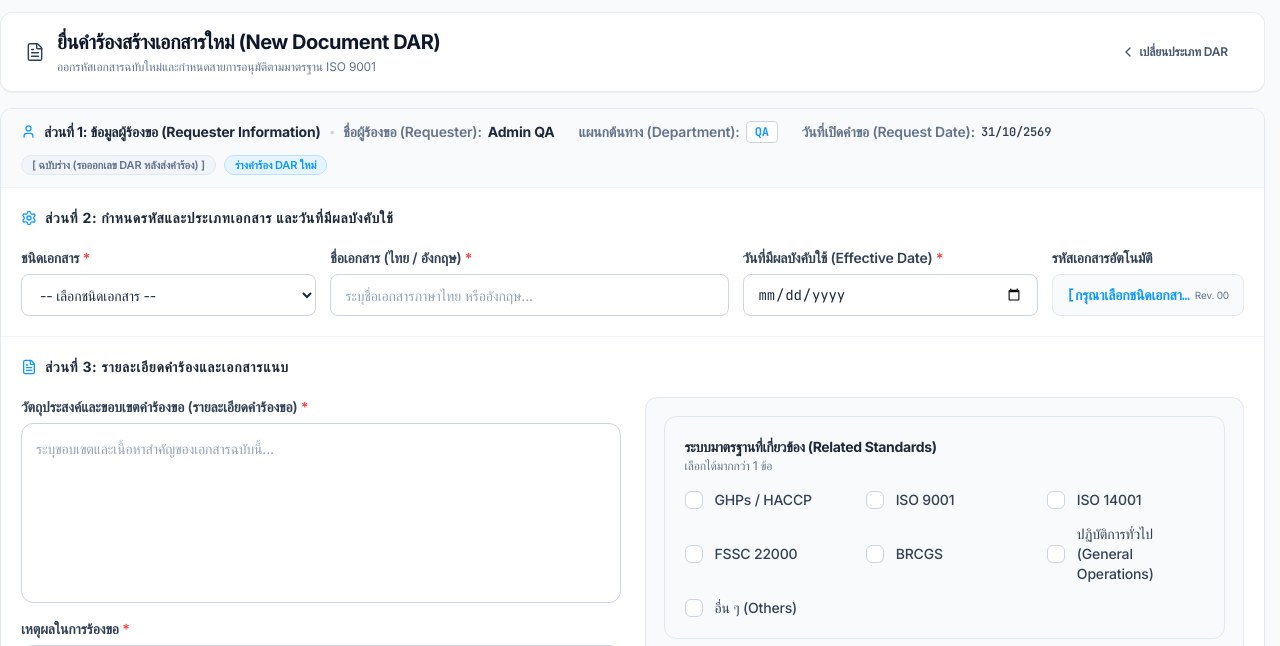
it: Layout Cleanliness & Ghost Container Elimination Tests › renders the FM access-scope notice when docType is FM and does not render Controlled Copy Matrix
Note: Select docType: FM
Select "Form / Record Format (FM)" in the dropdown at x=169, y=295, box [21,274,316,316]
(page scrolled)
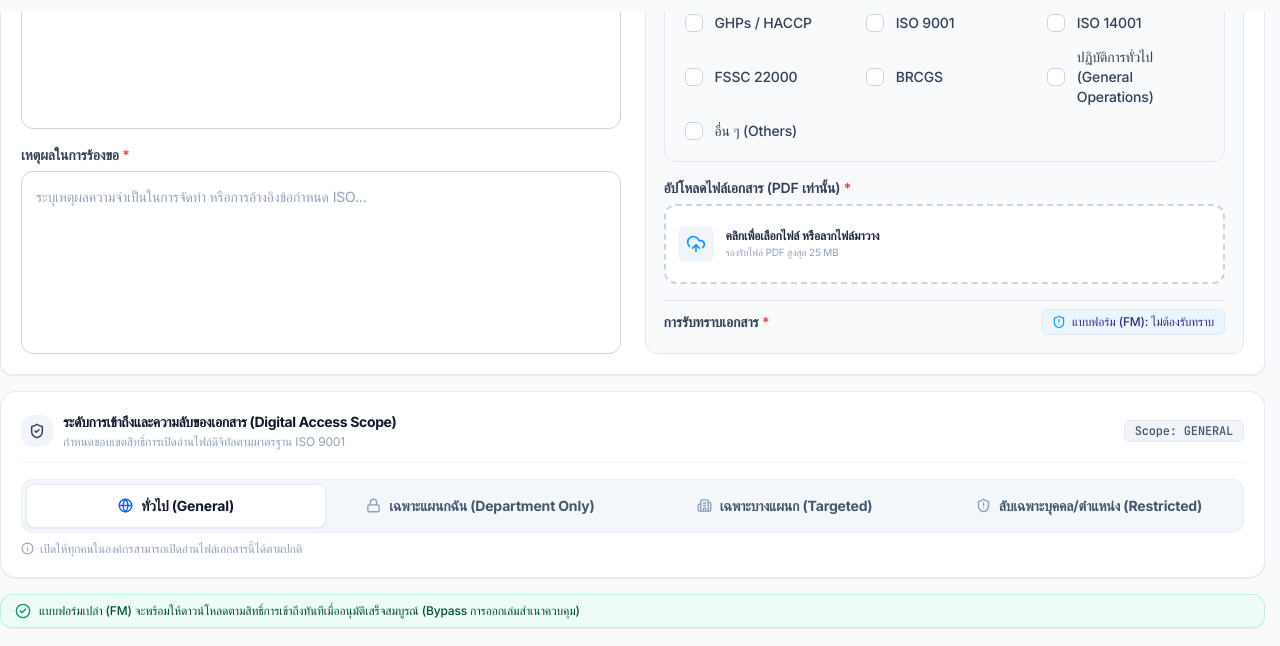
expect the text "ดาวน์โหลดตามสิทธิ์การเข้าถึง" is shown: met, box [39,603,580,618]
